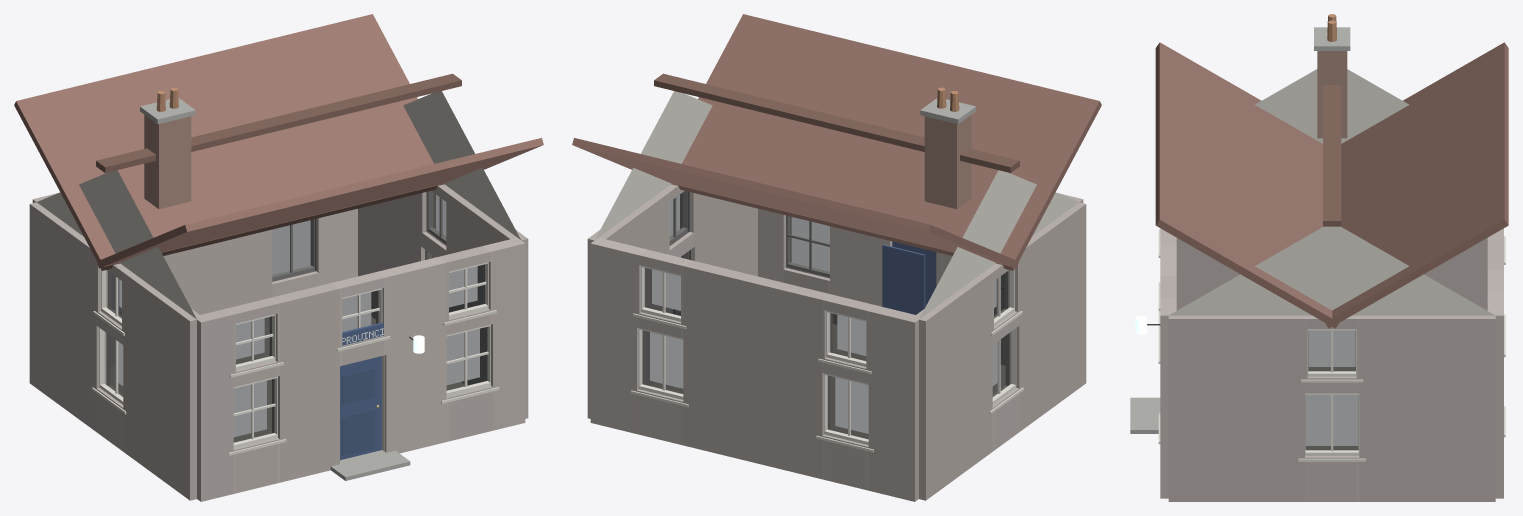
Rendered from town_police_house_a_v.glb.
3 views of the same model, side by side, from view 1: azimuth 30°, elevation 25°; view 2: azimuth 150°, elevation 25°; view 3: azimuth 270°, elevation 25° (orthographic).
Visible parts, largest first — view 1: body, window_light, door; view 2: body, window_light, door; view 3: body, window_light.
Boxes of the visible parts, x1,y1,x2,y2 form: body: (14, 14, 543, 501); window_light: (118, 266, 479, 436); door: (340, 356, 381, 460); body: (572, 14, 1101, 501); window_light: (650, 269, 997, 433); door: (892, 241, 936, 306); body: (1130, 14, 1508, 501); window_light: (1306, 330, 1358, 445).
Size of what is drawn, in the model's own units: 7.7 by 6.95 by 6.94.
